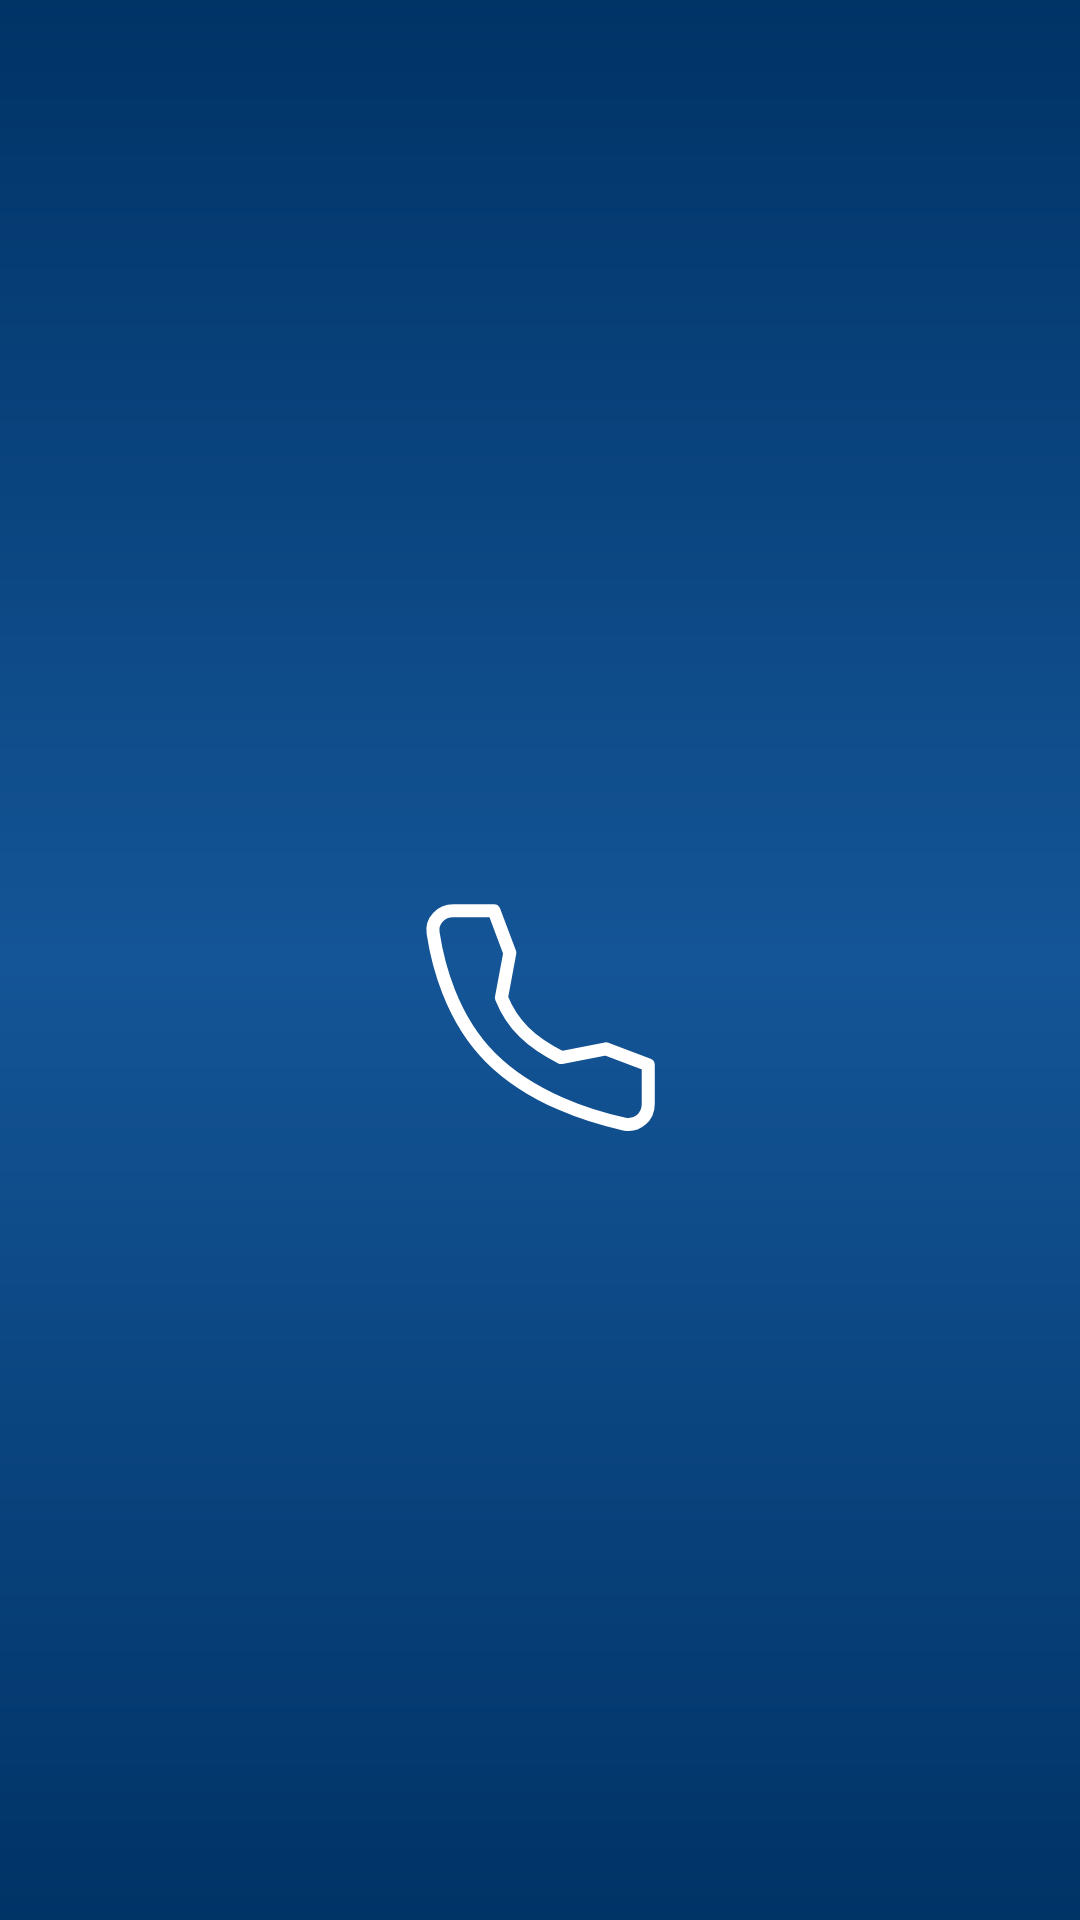

Icon click points for this 1080px x 1920px phone screenshot, format (x,y):
phone: (540,1017)
